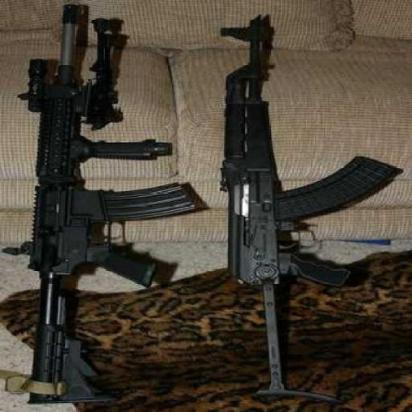Gun: (20, 8, 189, 405), (221, 20, 396, 392)
